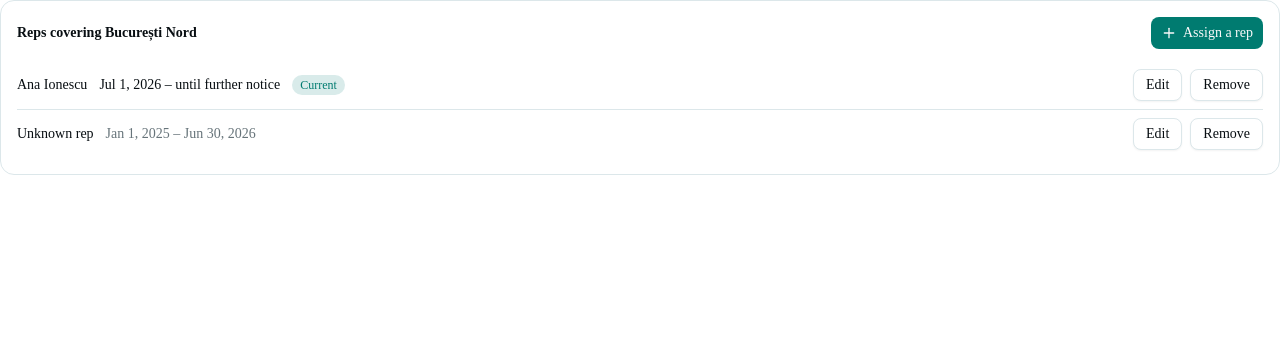
Test: <TerritoryAssignments> › opens the form on the assignment whose Edit was pressed
The image size is (1280, 362).
Click the button with aria-label "Edit the assignment for Ana Ionescu": point(1158, 85) x1=1133 y1=69 x2=1182 y2=101
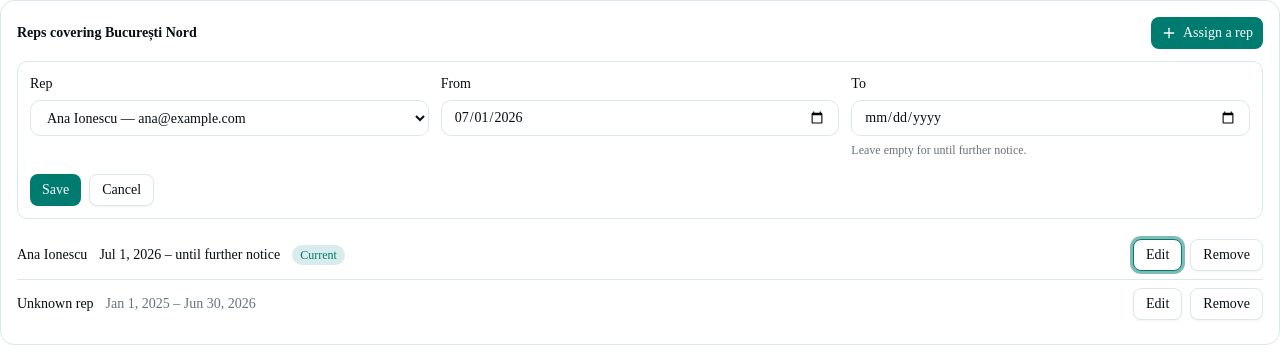
Check: the date field labelled "From" holds "2026-07-01", box x1=441 y1=100 x2=839 y2=136
Click the button with aria-label "Edit the assignment for Unknown rep": point(1158, 304) x1=1133 y1=288 x2=1182 y2=320
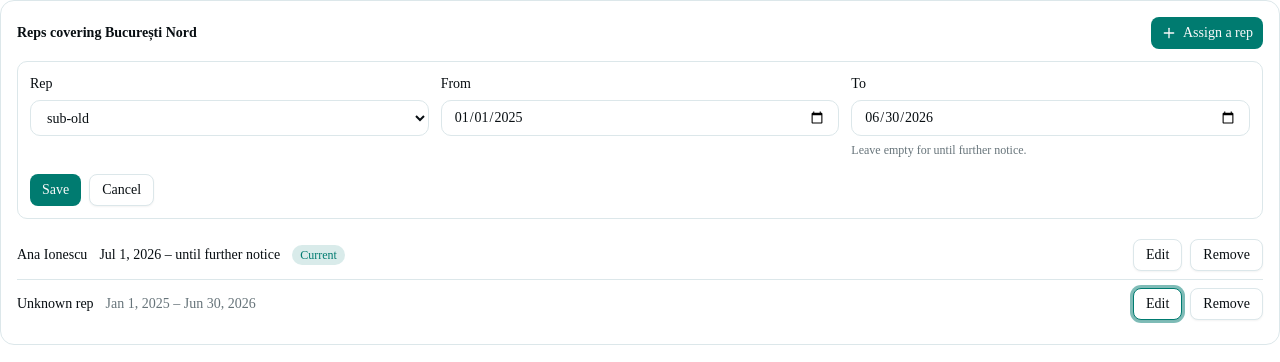
Check: the date field labelled "From" holds "2025-01-01", box x1=441 y1=100 x2=839 y2=136
Check: the date field labelled "To" holds "2026-06-30", box x1=851 y1=100 x2=1250 y2=136
